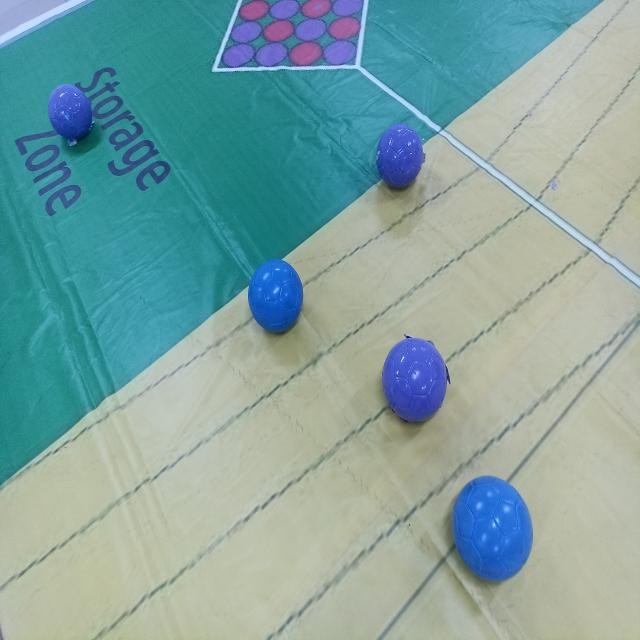blue_ball: (454, 478, 532, 580), (250, 263, 303, 329)
purple_ball: (384, 341, 445, 419), (379, 126, 420, 185), (50, 87, 90, 135)
